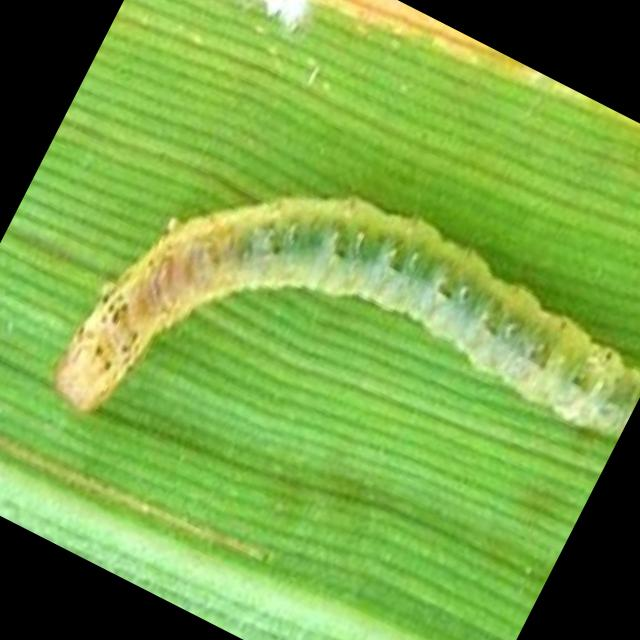leaf-folder: (24, 87, 640, 640)
